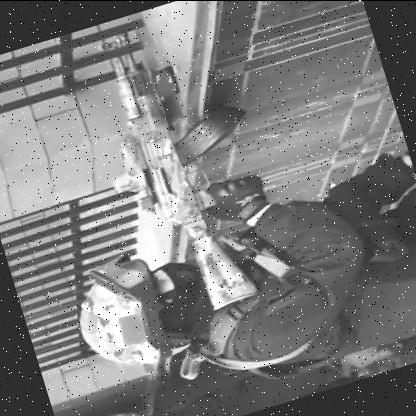rifle: (80, 9, 294, 327)
